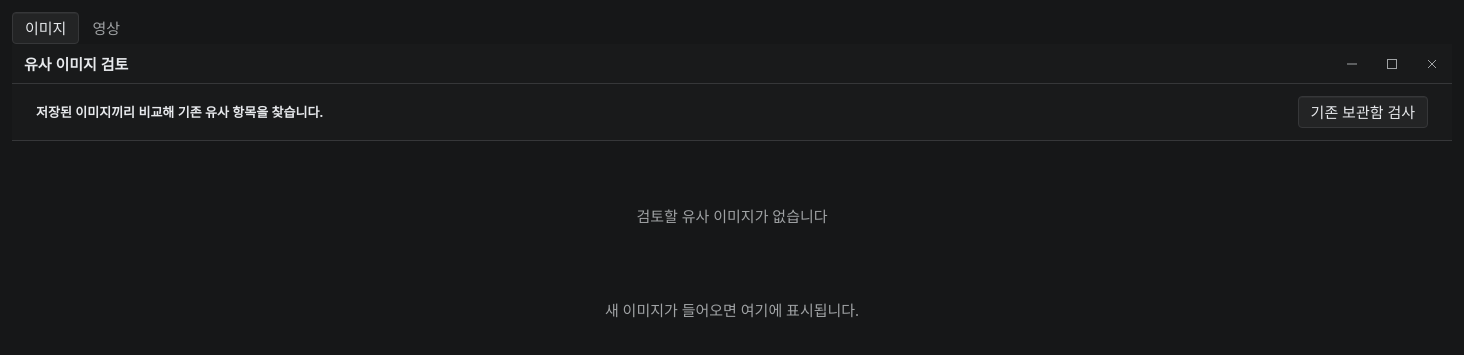
runs an explicit historical scan in resumable batches
Step 1. Click the button "기존 보관함 검사" → (1363, 112), box [1298,96,1428,128]
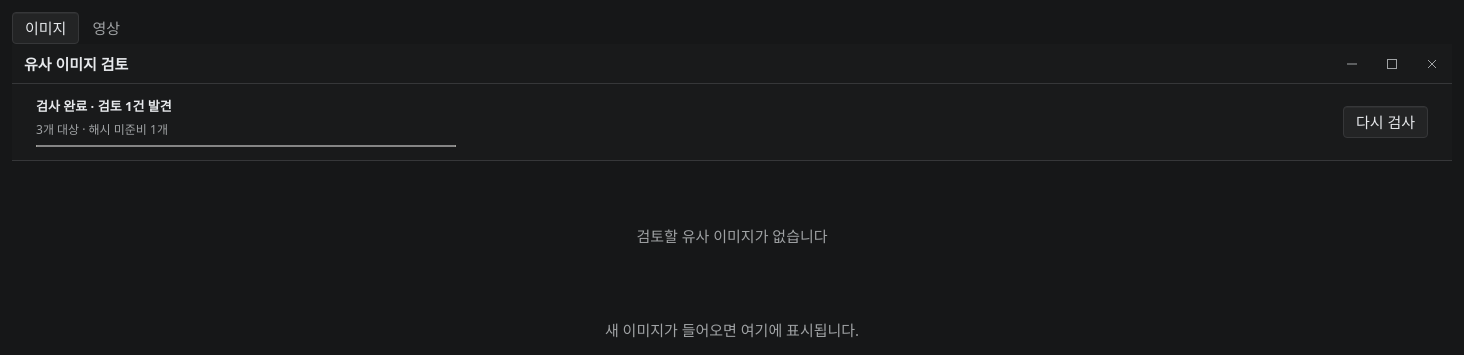
Expected: the text "검사 완료 · 검토 1건 발견" is shown, [36,97,172,115]
